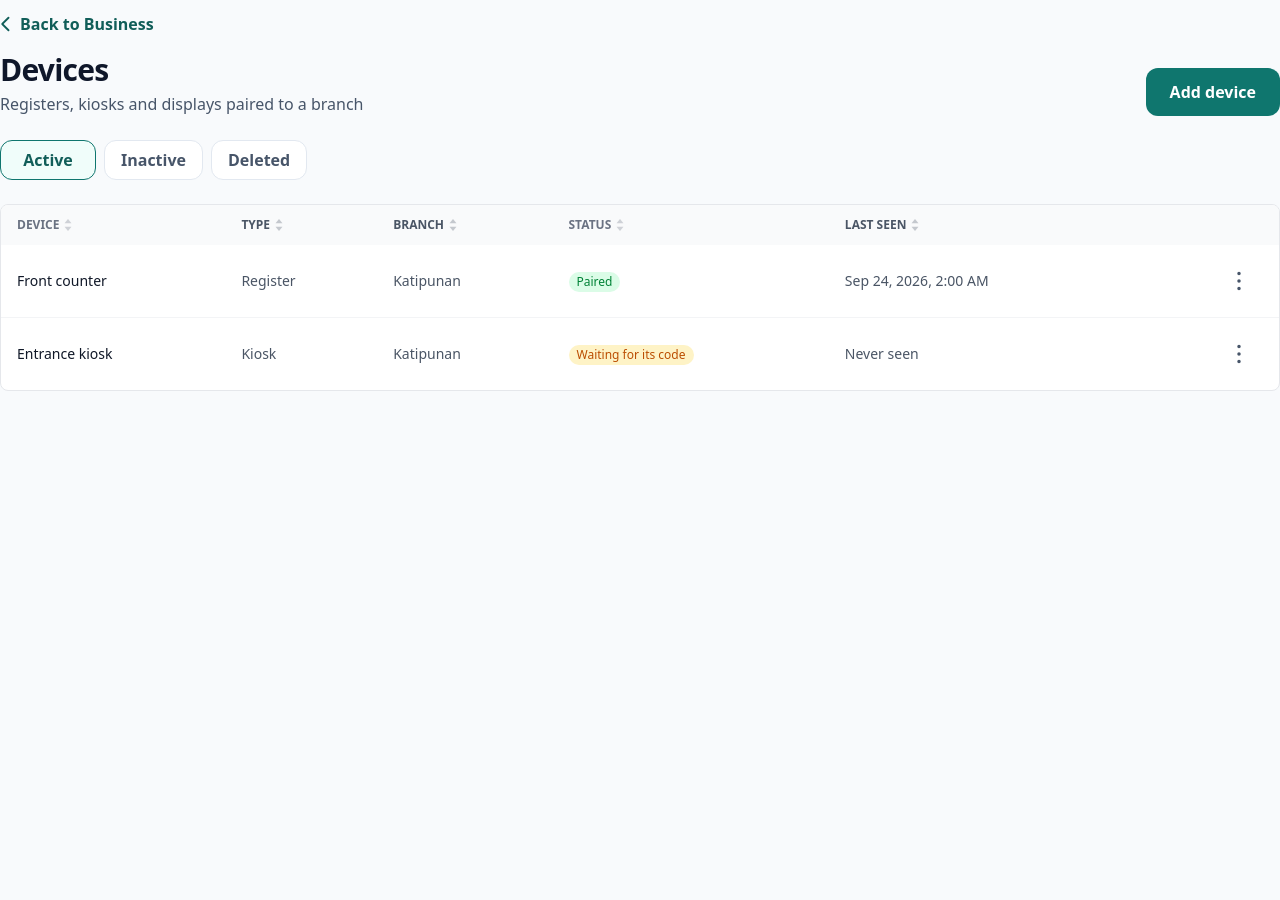
DevicesPage › gives a device that is still waiting a fresh code without a warning
This screenshot has width=1280, height=900.
Click the button named "Actions for Entrance kiosk" at (1239, 354), box [1215,330,1263,378]
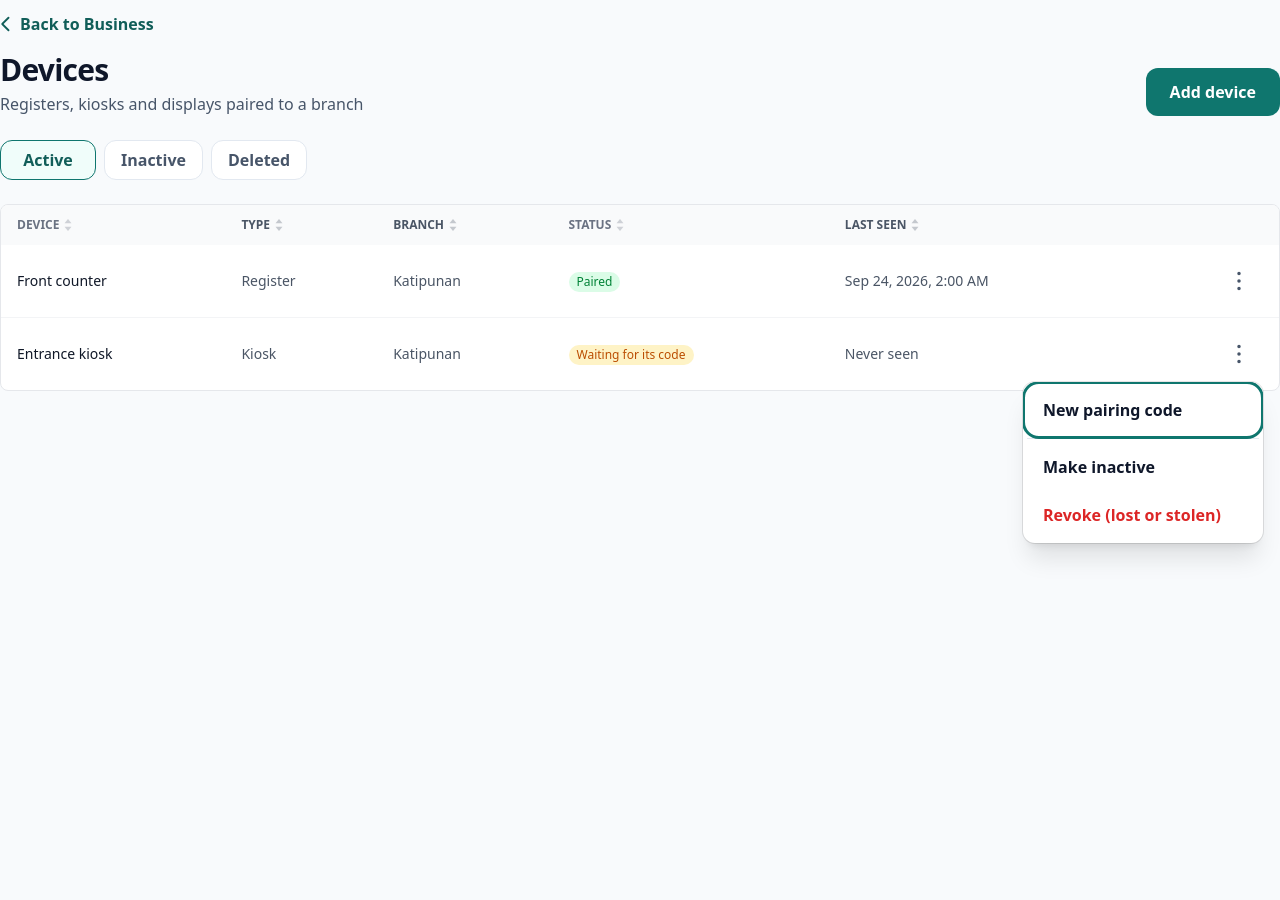
Click the menu item "New pairing code" at (1143, 410), box [1027,386,1259,434]
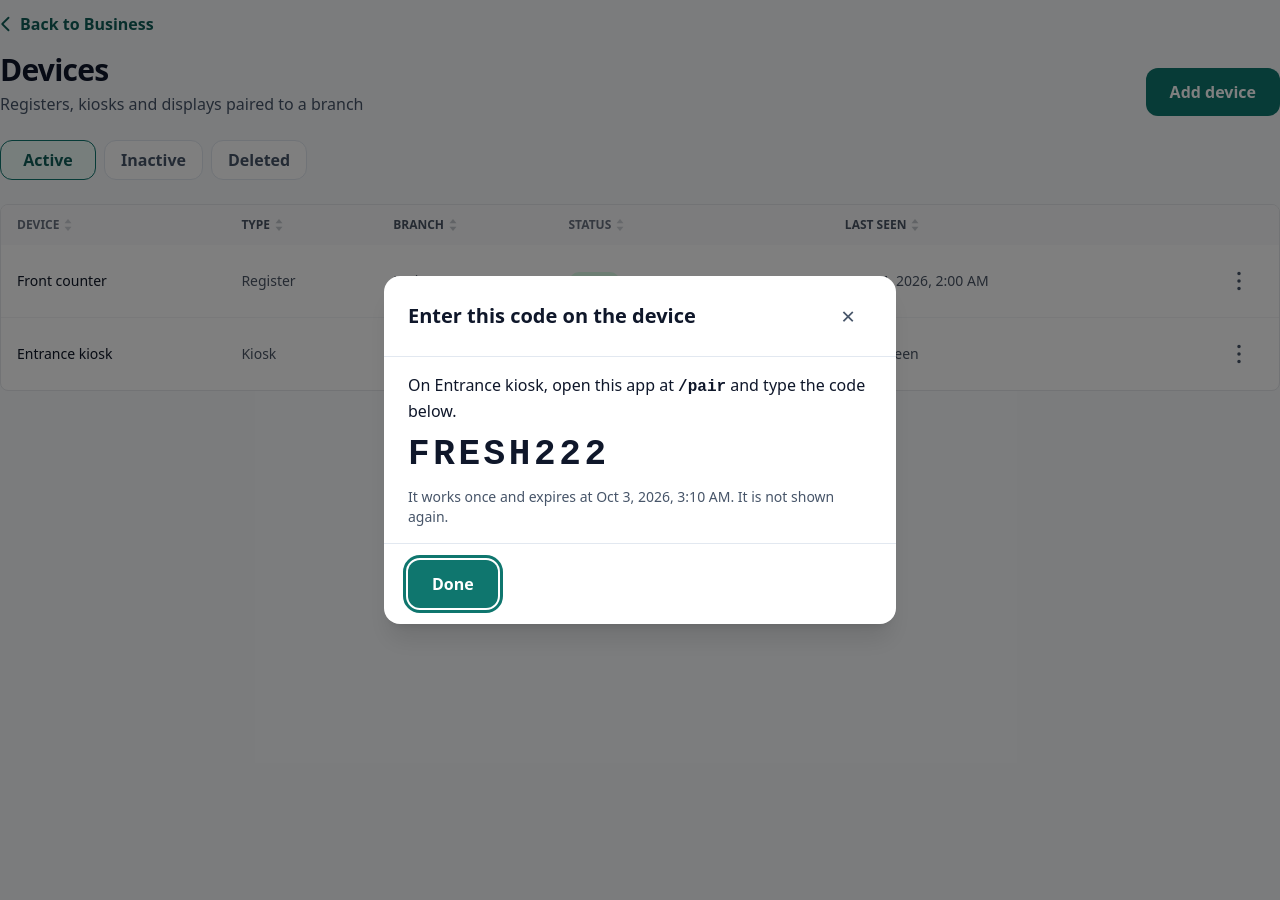
Check: the text named "Pairing code FRESH222" is shown, box [408,434,610,475]
